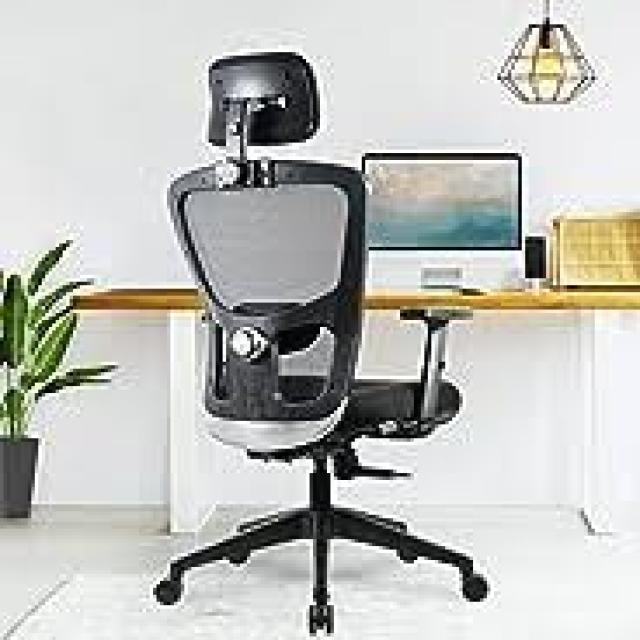chair: (61, 33, 535, 640)
